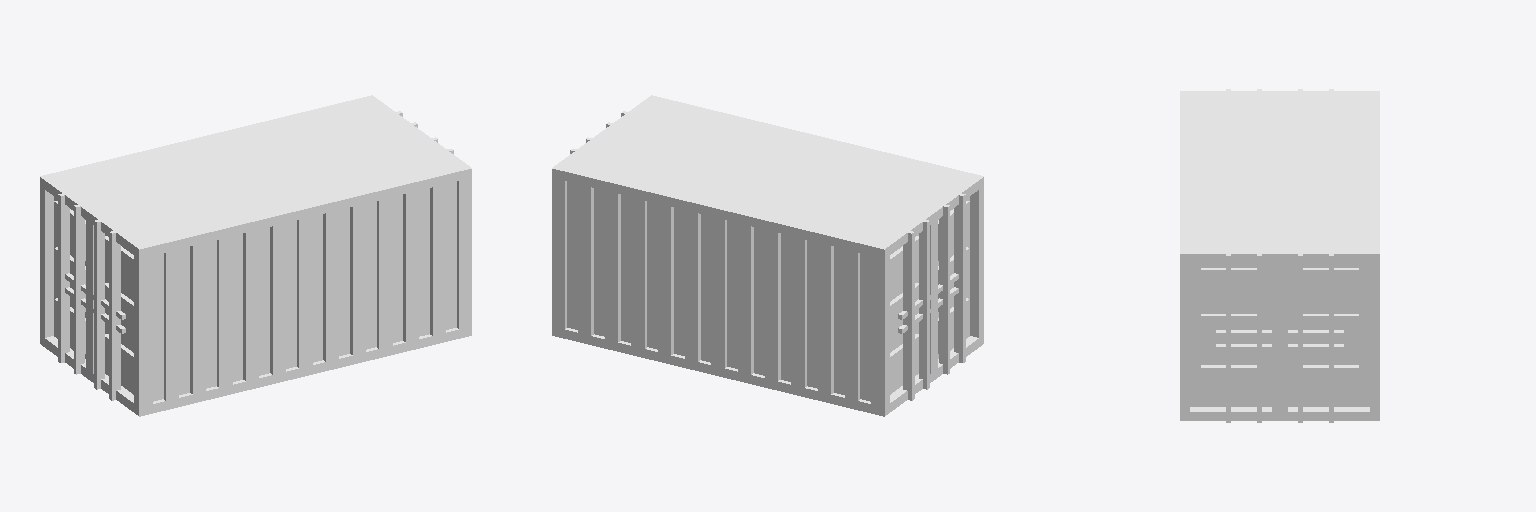
The model's file is Container_3.obj.
3 views of the same model, side by side, from view 1: azimuth 30°, elevation 25°; view 2: azimuth 150°, elevation 25°; view 3: azimuth 270°, elevation 25° (orthographic).
Parts seen in each view (by area): view 1: object 1; view 2: object 1; view 3: object 1.
Boxes of the visible parts, x1,y1,x2,y2 form: object 1: [40, 95, 471, 416]; object 1: [552, 95, 983, 416]; object 1: [1180, 89, 1379, 422].
Size of the model in its own units: 7.7 by 3.6 by 3.9.